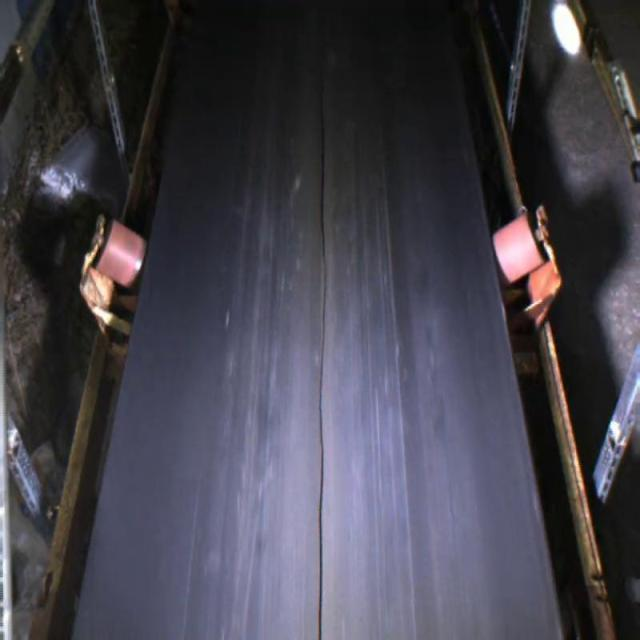Tear: (304, 0, 333, 640)
